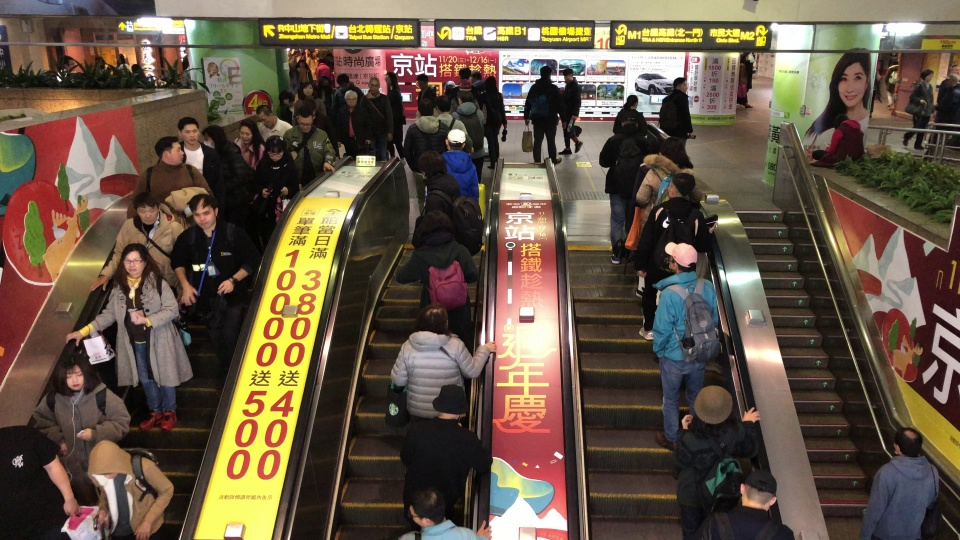person_head: (404, 488, 445, 527), (430, 384, 468, 417), (186, 194, 219, 229), (416, 302, 449, 334), (742, 477, 774, 510), (153, 136, 184, 167), (129, 193, 160, 223), (893, 426, 923, 457), (121, 243, 147, 278), (63, 356, 86, 394), (292, 98, 317, 132), (419, 152, 447, 180), (668, 173, 697, 199), (173, 117, 200, 144), (262, 134, 288, 162), (90, 458, 120, 481), (199, 124, 226, 148), (420, 215, 440, 242), (255, 104, 278, 127), (444, 130, 466, 154), (661, 137, 682, 161), (668, 252, 691, 273), (699, 415, 722, 436), (238, 121, 258, 143), (415, 98, 434, 116), (56, 54, 76, 71), (617, 113, 638, 128), (276, 90, 294, 107), (831, 115, 850, 130), (343, 90, 358, 108), (672, 77, 688, 93), (366, 76, 381, 93), (435, 97, 450, 114), (622, 94, 639, 109), (336, 72, 351, 88), (918, 68, 934, 83), (484, 74, 497, 92), (415, 73, 429, 88), (299, 82, 315, 95), (384, 71, 397, 87), (943, 73, 959, 86), (538, 65, 552, 79), (457, 67, 471, 80), (563, 67, 574, 82), (317, 76, 330, 88), (118, 63, 130, 74), (471, 70, 482, 82), (458, 93, 471, 103), (131, 64, 143, 74), (94, 56, 105, 66), (297, 59, 307, 69), (115, 54, 127, 62), (887, 59, 899, 67), (308, 48, 316, 58), (318, 57, 327, 65), (738, 54, 745, 64), (745, 55, 750, 61)
person_vbox: (65, 243, 195, 432), (169, 194, 257, 367), (650, 242, 723, 448), (30, 356, 131, 501), (394, 384, 494, 529), (633, 173, 719, 341), (390, 302, 497, 431), (90, 193, 186, 328), (677, 384, 761, 536), (632, 137, 701, 294), (397, 211, 474, 340), (857, 426, 943, 540), (0, 426, 81, 540), (83, 440, 174, 540), (599, 112, 657, 264), (125, 135, 214, 226), (693, 471, 795, 540), (417, 151, 483, 257), (173, 117, 238, 217), (402, 98, 450, 213), (252, 134, 301, 246), (394, 487, 494, 540), (521, 65, 563, 166), (283, 108, 335, 189), (199, 124, 255, 198), (659, 77, 696, 169), (450, 93, 487, 183), (809, 115, 866, 169), (902, 67, 938, 150), (440, 130, 480, 204), (924, 72, 959, 155), (335, 89, 374, 158), (479, 74, 507, 169), (557, 66, 584, 157), (383, 71, 407, 164), (362, 77, 392, 139), (232, 121, 265, 170), (612, 94, 649, 136), (254, 105, 294, 142), (435, 95, 468, 137), (293, 82, 327, 117), (332, 73, 364, 110), (449, 67, 478, 103), (414, 72, 437, 110), (884, 59, 901, 109), (744, 52, 756, 111), (275, 89, 294, 125), (316, 75, 336, 109), (55, 54, 77, 81), (736, 54, 747, 108), (315, 57, 334, 83), (296, 60, 315, 86), (470, 68, 485, 98), (307, 49, 320, 80), (91, 55, 108, 77), (113, 54, 129, 75), (130, 63, 146, 84), (117, 64, 131, 80)
